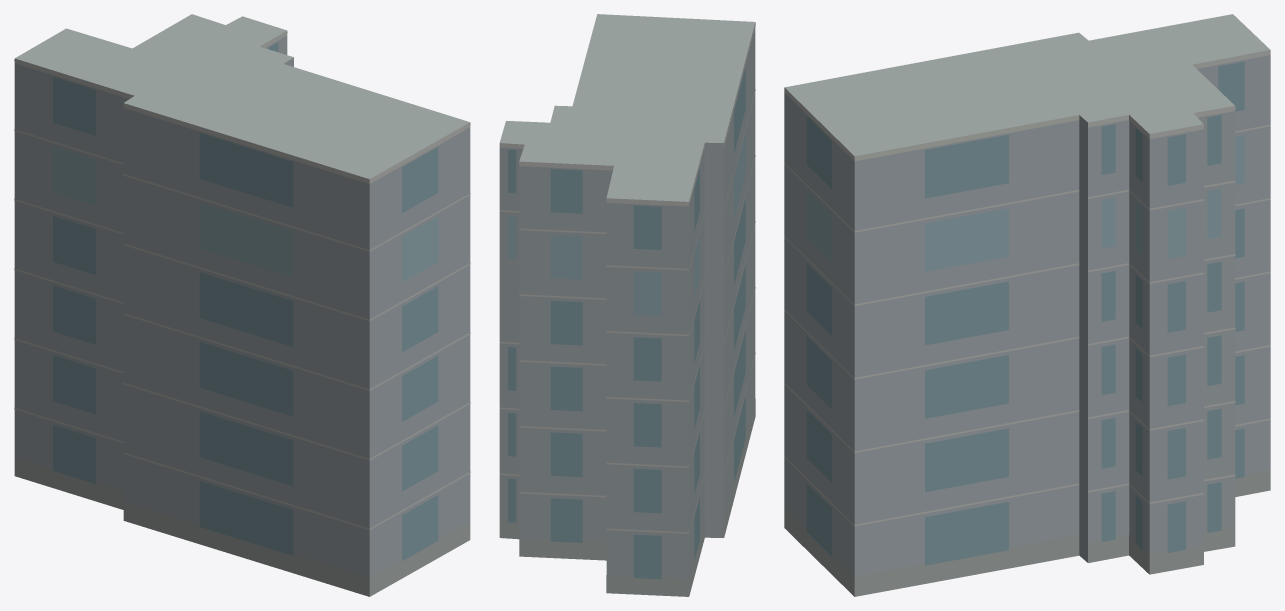
File: survey-upis-32692155.glb
3 renders of one model, left to right at view 1: azimuth 30°, elevation 25°; view 2: azimuth 150°, elevation 25°; view 3: azimuth 270°, elevation 25°, orthographic. The views are drawn at different scales.
Parts seen in each view (by area): view 1: survey-upis-32692155.tmp; view 2: survey-upis-32692155.tmp; view 3: survey-upis-32692155.tmp.
Part boxes in pixels (x1=…): survey-upis-32692155.tmp: x1=14, y1=14, x2=470, y2=596; survey-upis-32692155.tmp: x1=499, y1=14, x2=755, y2=596; survey-upis-32692155.tmp: x1=784, y1=14, x2=1270, y2=596.
Bounding box in the file's own units: 14.5 × 20.9 × 20.92.
